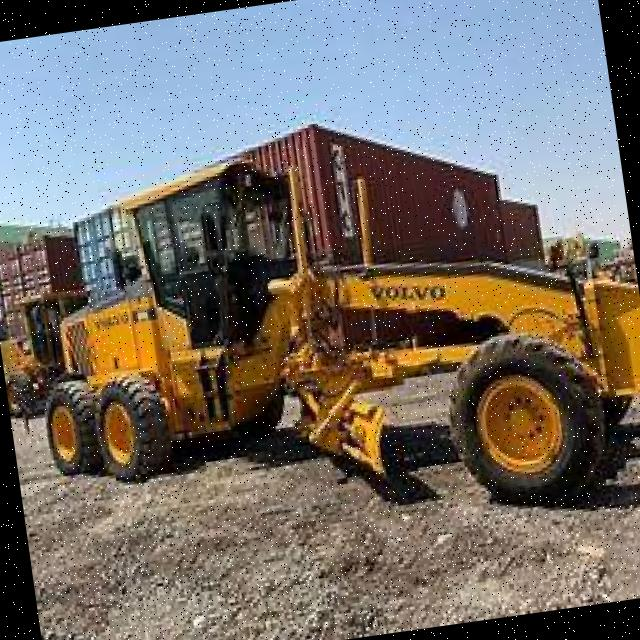Grader: (0, 94, 640, 578)
